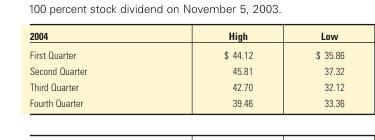table: (28, 28, 343, 108)
table column: (154, 28, 283, 108), (28, 28, 154, 108), (283, 28, 343, 108)
table column header: (28, 28, 343, 44)
table row: (28, 44, 343, 62), (28, 28, 343, 44), (28, 62, 343, 78), (28, 78, 343, 94), (28, 94, 343, 108)
